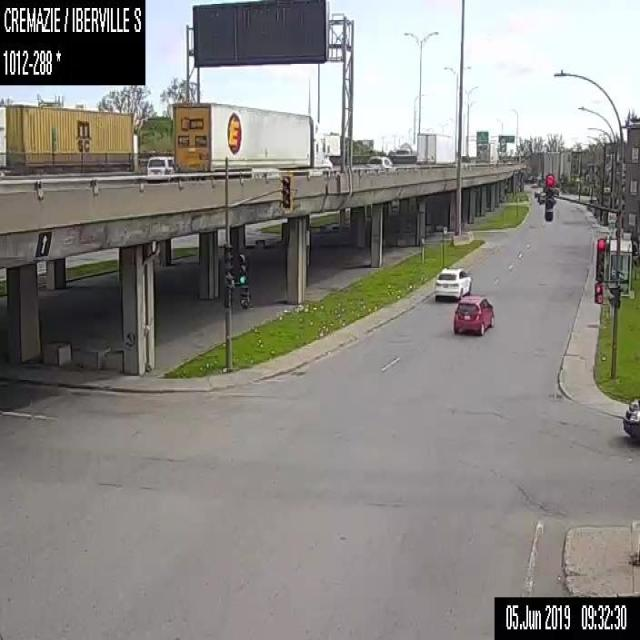vehicle: (174, 99, 333, 180), (0, 103, 133, 177), (415, 130, 457, 168), (452, 295, 493, 333), (434, 267, 471, 298), (146, 154, 174, 180), (623, 399, 639, 440), (366, 154, 394, 172), (476, 141, 499, 162), (392, 148, 412, 160), (537, 191, 545, 203), (533, 188, 541, 197)
